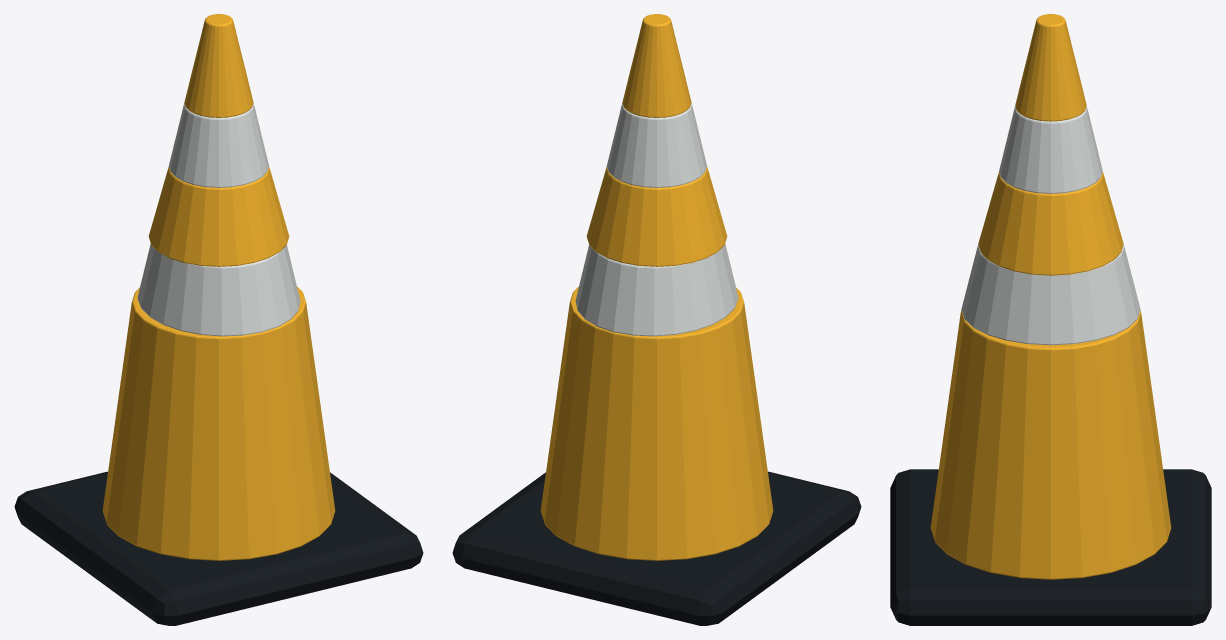
Rendered from edited.glb.
3 views of the same model, side by side, from view 1: azimuth 30°, elevation 25°; view 2: azimuth 150°, elevation 25°; view 3: azimuth 270°, elevation 25° (orthographic). The views are drawn at different scales.
Parts seen in each view (by area): view 1: CONE_Lower, BASE, BAND_Lower, CONE_Middle, BAND_Upper, CONE_Top; view 2: CONE_Lower, BASE, BAND_Lower, CONE_Middle, BAND_Upper, CONE_Top; view 3: CONE_Lower, BASE, BAND_Lower, CONE_Middle, BAND_Upper, CONE_Top.
Boxes of the visible parts, x1,y1,x2,y2 form: CONE_Lower: (102, 286, 335, 560); BASE: (14, 471, 423, 625); BAND_Lower: (137, 244, 300, 336); CONE_Middle: (148, 166, 289, 266); BAND_Upper: (169, 103, 268, 187); CONE_Top: (184, 14, 253, 117); CONE_Lower: (540, 286, 773, 560); BASE: (452, 471, 861, 625); BAND_Lower: (575, 244, 738, 336); CONE_Middle: (586, 166, 727, 266); BAND_Upper: (607, 103, 706, 187); CONE_Top: (622, 14, 691, 117); CONE_Lower: (930, 310, 1171, 579); BASE: (890, 469, 1211, 625); BAND_Lower: (961, 245, 1140, 345); CONE_Middle: (978, 171, 1123, 275); BAND_Upper: (999, 106, 1102, 193); CONE_Top: (1015, 14, 1086, 121).
Bounding box in the file's own units: 0.4 × 0.75 × 0.4.
